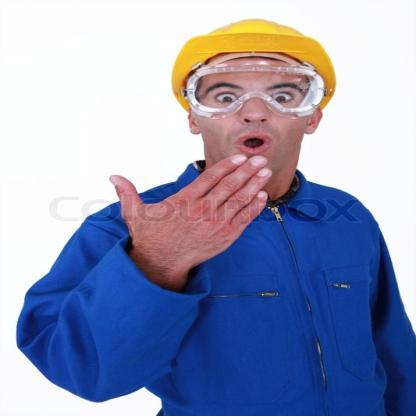oculos: (185, 64, 325, 118)
